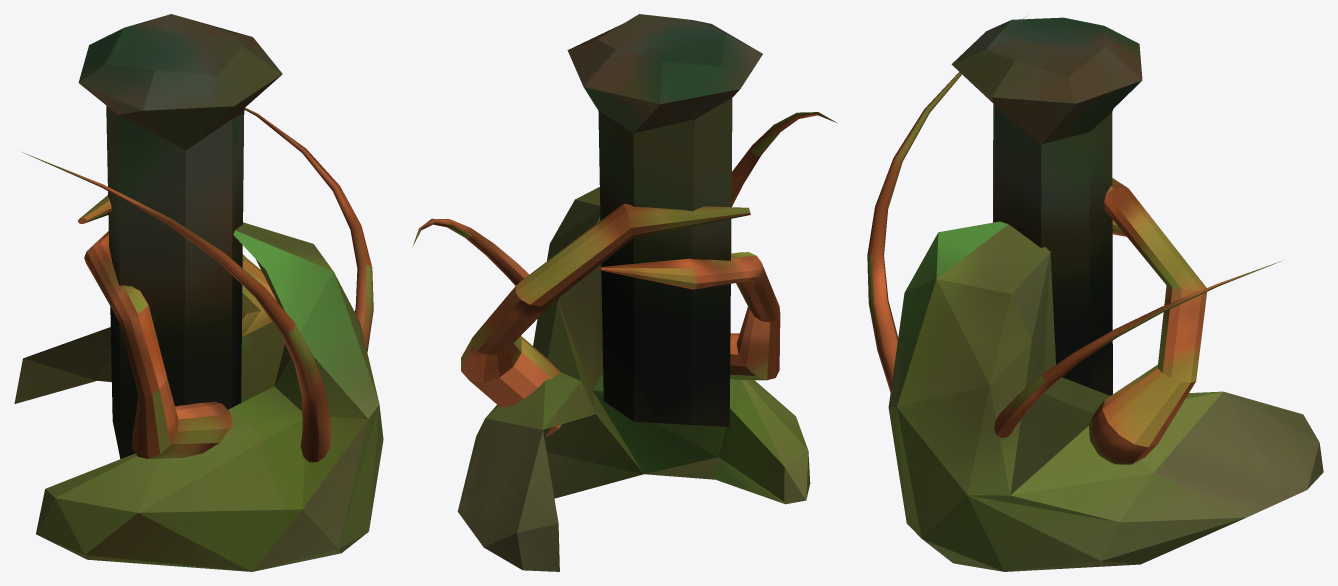
File: extractor.glb
3 views of the same model, side by side, from view 1: azimuth 30°, elevation 25°; view 2: azimuth 150°, elevation 25°; view 3: azimuth 270°, elevation 25° (orthographic). The views are drawn at different scales.
Visible parts, largest first — view 1: extractor, Cylinder, branch.001, root, root2, branch; view 2: Cylinder, extractor, branch, branch.001, root2, root; view 3: extractor, Cylinder, branch, root, root2.
Boxes of the visible parts, x1,y1,x2,y2 form: extractor: (14,222,383,571); Cylinder: (78,14,282,458); branch.001: (84,231,232,458); root: (22,152,330,462); root2: (244,107,373,351); branch: (78,195,276,336); Cylinder: (567,14,762,426); extractor: (457,187,810,571); branch: (461,204,750,437); branch.001: (600,252,780,380); root2: (412,218,529,285); root: (731,112,837,206); extractor: (888,221,1323,571); Cylinder: (951,17,1142,395); branch: (1089,178,1206,464); root: (867,16,1026,392); root2: (994,261,1281,437).
Size of the model in its own units: 3.11 by 4.04 by 3.52.
Materials: 3 (3 with a texture image).
